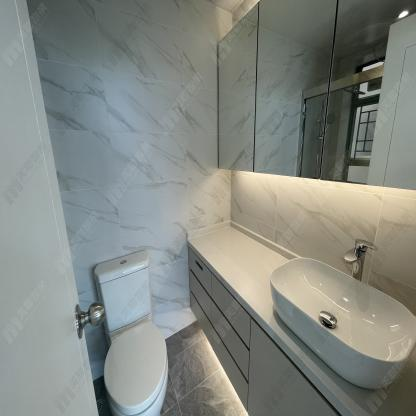Toilet: (93, 248, 170, 416)
Toilet Sink: (269, 255, 416, 389)
